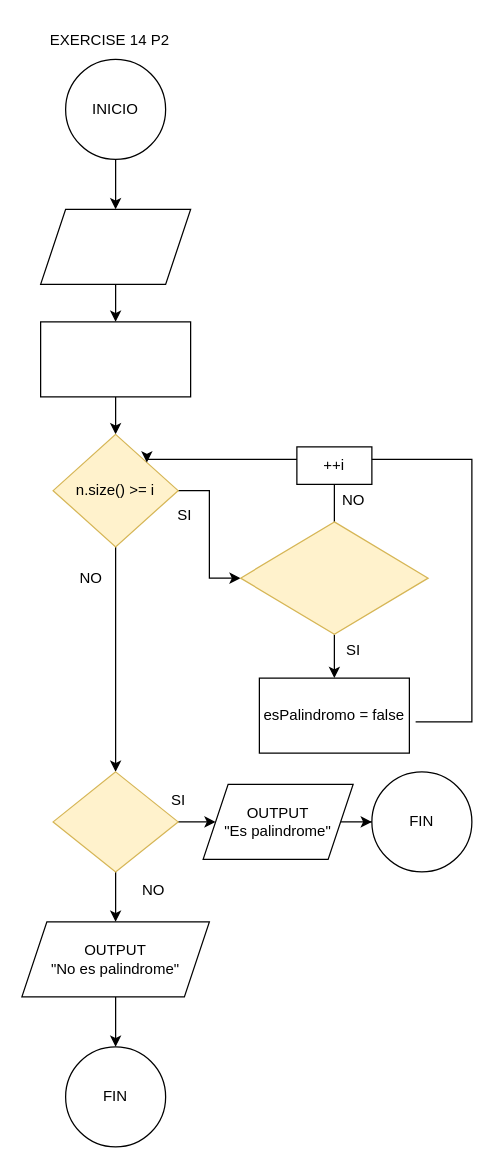
Image size: 495x1169. Some labels were removed from this diagram. The box of each missing label's shape, as (x1, y1, x2, y2) in pixels:
esPalindromo: (52, 771, 178, 872)
esPalindromo = true i = 0: (39, 321, 191, 397)
INPUT n: (39, 208, 191, 284)
n [i] != n [ n.size()-1-i ]: (239, 521, 428, 634)
